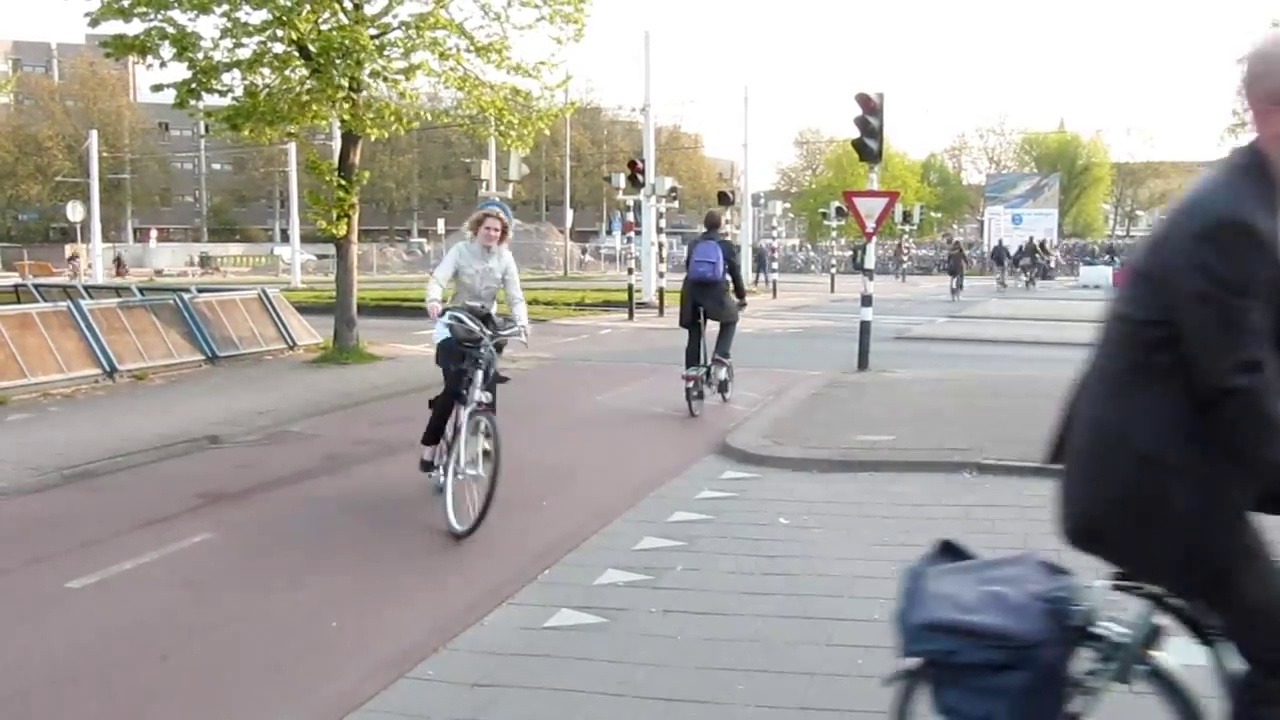cyclist_back: (682, 205, 750, 419), (946, 238, 968, 302)
cyclist_front: (415, 198, 524, 540)
